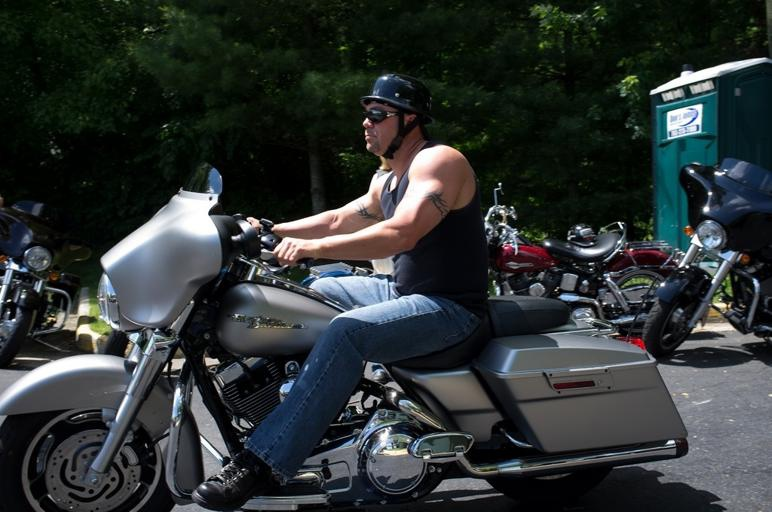non-vehicle: (0, 166, 688, 511), (482, 182, 684, 338), (641, 156, 771, 360), (0, 198, 92, 370)
